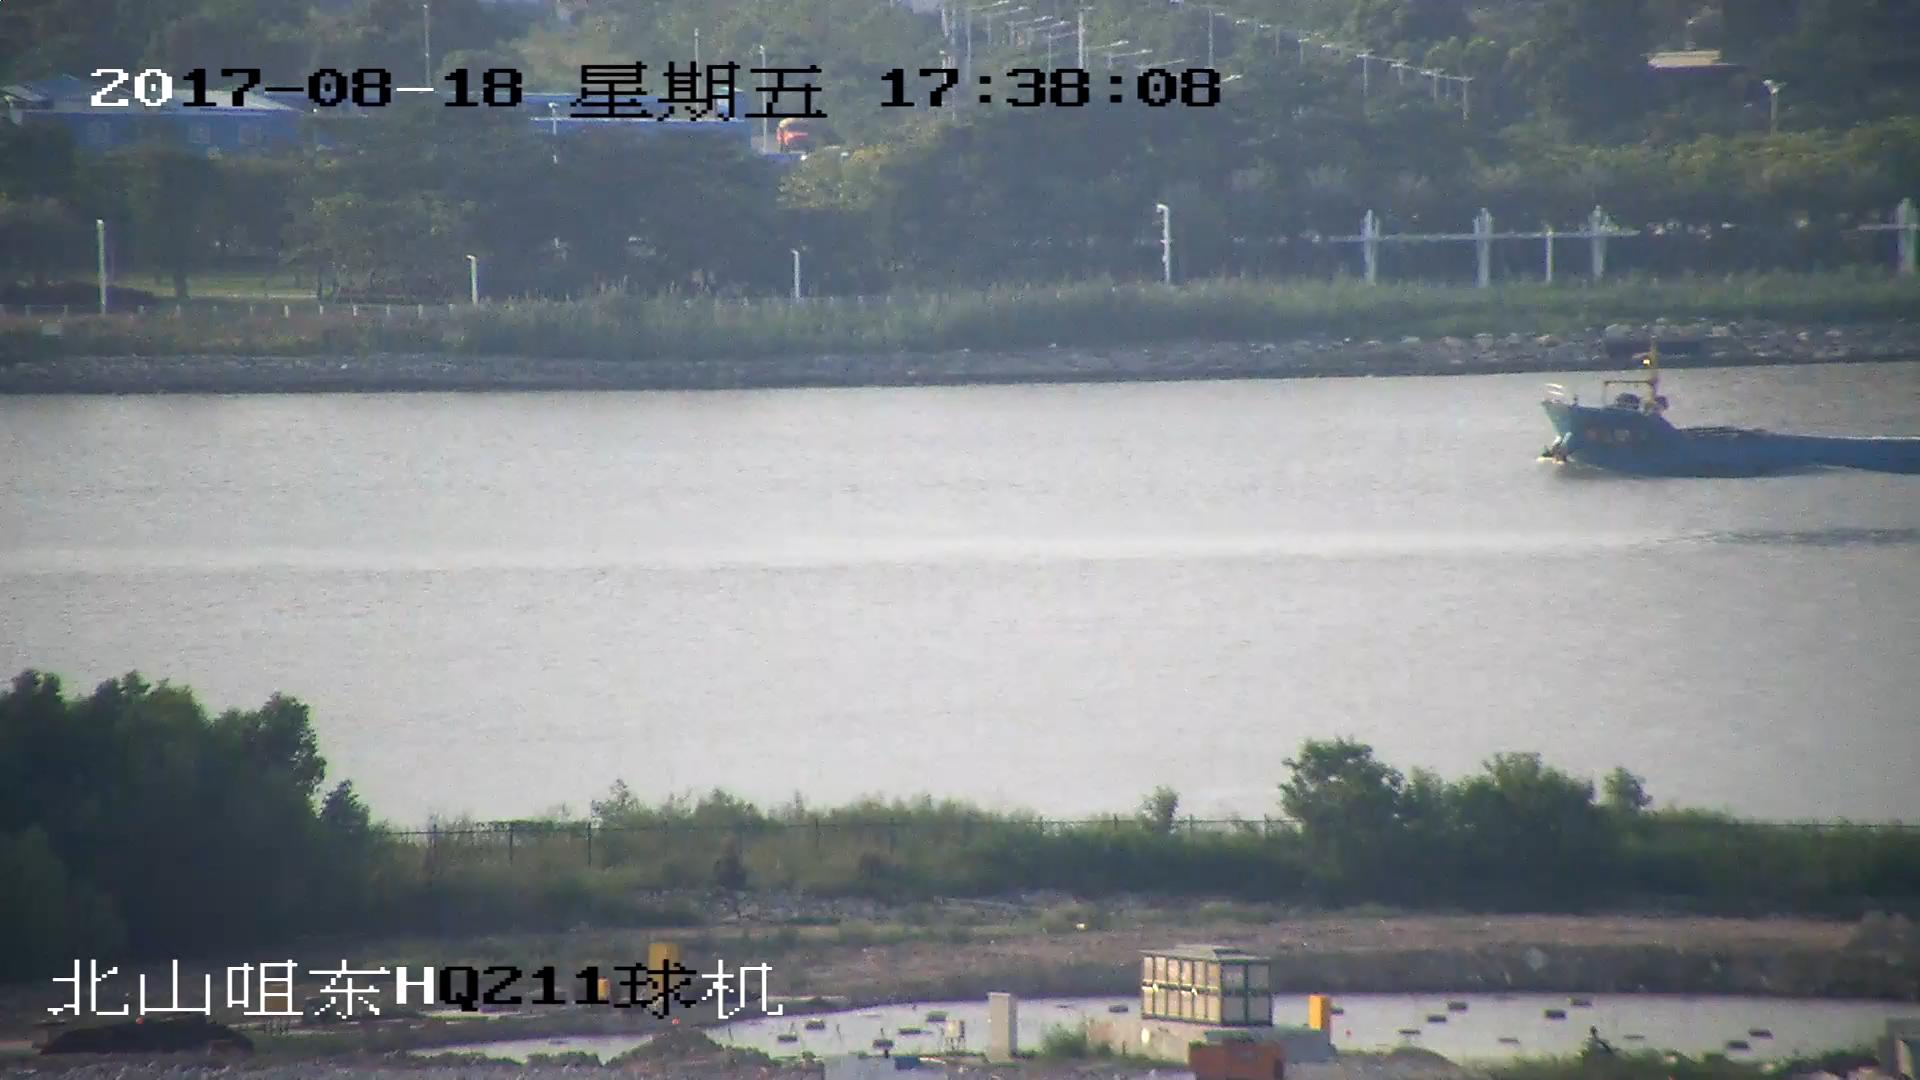general cargo ship: (1534, 342, 1920, 479)
